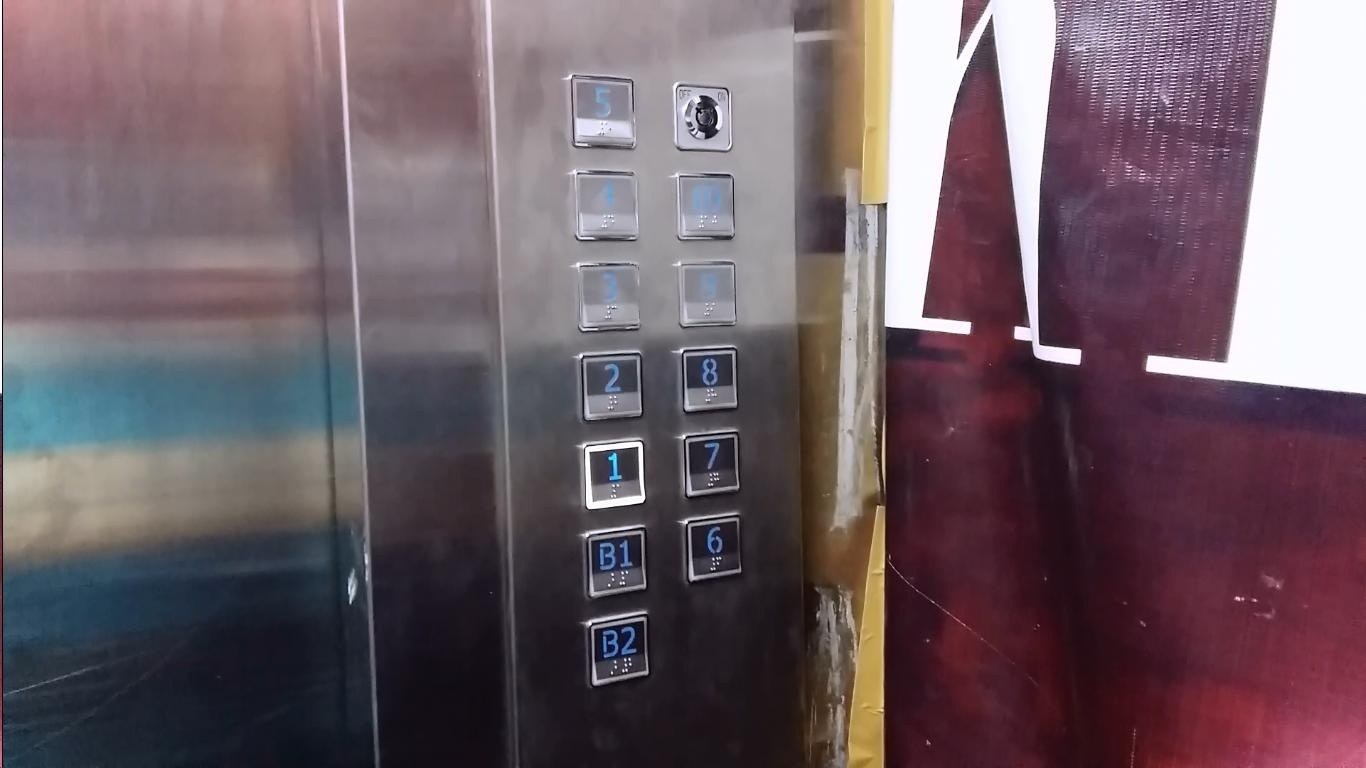1: (578, 434, 649, 513)
2: (574, 346, 646, 425)
3: (572, 257, 645, 337)
4: (567, 165, 642, 245)
5: (562, 71, 640, 153)
6: (675, 509, 745, 588)
7: (675, 425, 745, 504)
8: (672, 341, 744, 420)
B1: (575, 520, 654, 605)
B2: (578, 607, 657, 692)
blur: (667, 167, 742, 247), (670, 255, 742, 334)
bt_keyhole: (662, 76, 740, 158)
